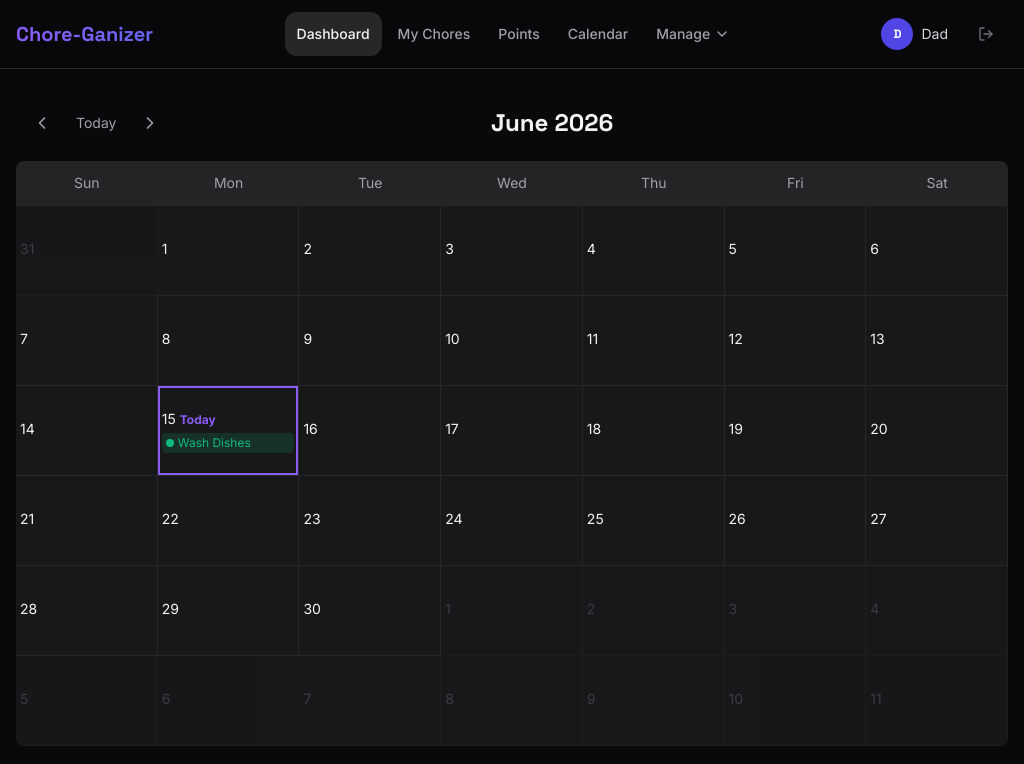
Scenario: CalendarPage › shows the template description in the selected-date dialog
Click the button with aria-label "View chores for June 15, 2026".
click(229, 431)  # box 158,386 -> 299,476
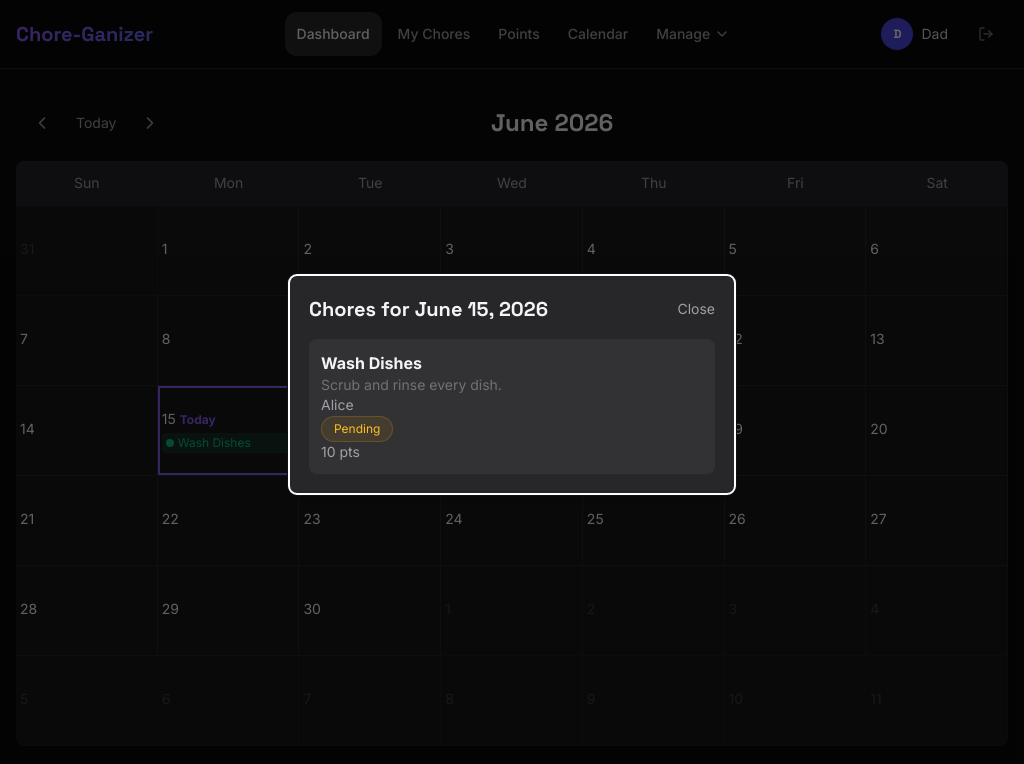
Check: the text "Scrub and rinse every dish." is shown, box 321,376 -> 502,392
